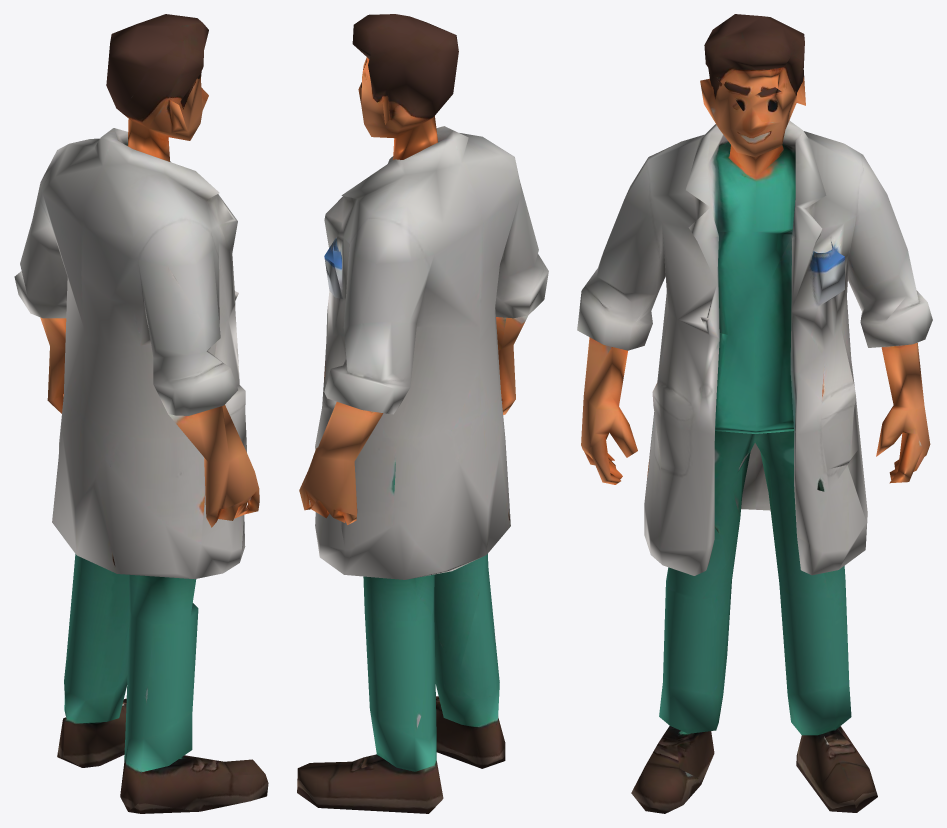
File: dentist.glb
3 renders of one model, left to right at view 1: azimuth 30°, elevation 25°; view 2: azimuth 150°, elevation 25°; view 3: azimuth 270°, elevation 25°, orthographic.
Visible parts, largest first — view 1: tripo_node_718bb131-c917-47a0-855f-8d3134b77033; view 2: tripo_node_718bb131-c917-47a0-855f-8d3134b77033; view 3: tripo_node_718bb131-c917-47a0-855f-8d3134b77033.
Boxes of the visible parts, x1,y1,x2,y2 form: tripo_node_718bb131-c917-47a0-855f-8d3134b77033: (14,14,268,813); tripo_node_718bb131-c917-47a0-855f-8d3134b77033: (297,14,548,813); tripo_node_718bb131-c917-47a0-855f-8d3134b77033: (577,14,932,813).
Bounding box in the file's own units: 0.1984 × 0.9759 × 0.4137.
1 material, 1 textured.
